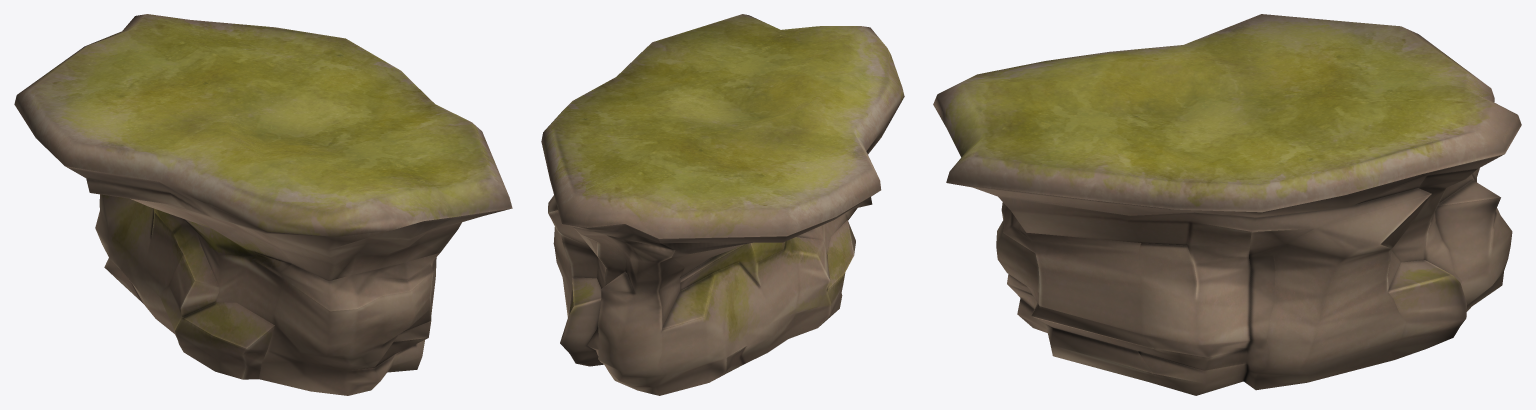
The model's file is rock_03.FBX.
3 renders of one model, left to right at view 1: azimuth 30°, elevation 25°; view 2: azimuth 150°, elevation 25°; view 3: azimuth 270°, elevation 25°, orthographic. The views are drawn at different scales.
Parts seen in each view (by area): view 1: rock_03; view 2: rock_03; view 3: rock_03.
Boxes of the visible parts, x1=… form: rock_03: x1=14, y1=14, x2=512, y2=395; rock_03: x1=541, y1=14, x2=904, y2=395; rock_03: x1=933, y1=14, x2=1521, y2=395.
Bounding box in the file's own units: 1754 × 1082 × 2492.
